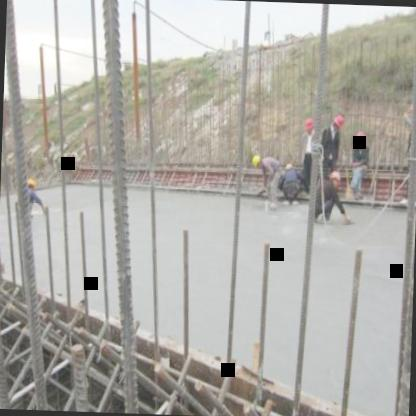helmet: (23, 176, 36, 198), (250, 152, 265, 170), (354, 128, 366, 150), (328, 170, 342, 188), (304, 116, 316, 135), (332, 114, 344, 132)
